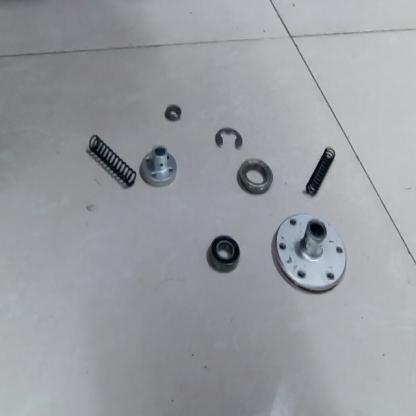FOD: (271, 210, 348, 296), (86, 131, 136, 188), (138, 144, 180, 191), (304, 143, 338, 200), (234, 153, 278, 195), (205, 232, 242, 276), (209, 124, 246, 152), (163, 103, 186, 126)
